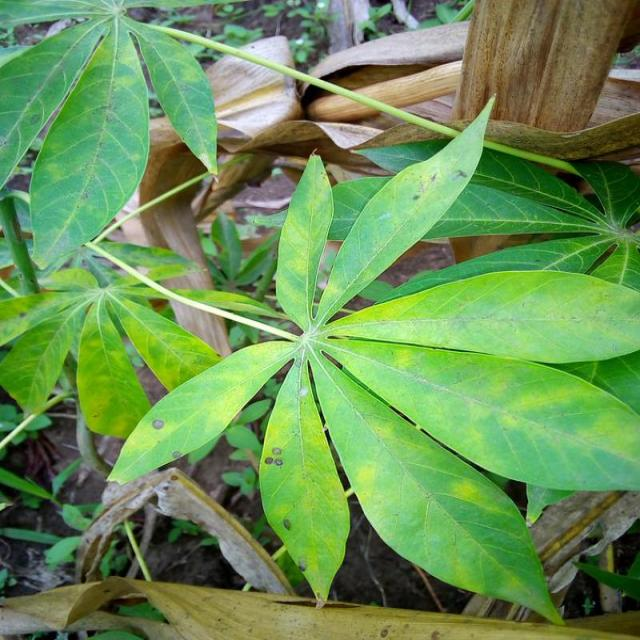cassava leaf: (102, 98, 638, 623), (28, 18, 150, 273)
